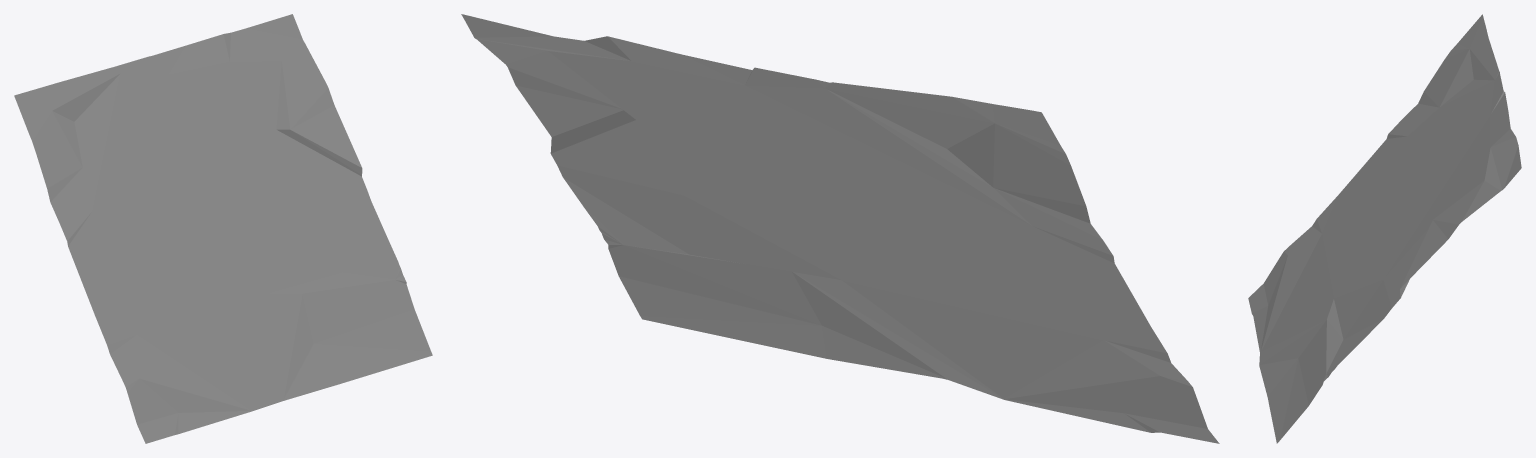
The picture shows the model from 3 angles, left to right: view 1: azimuth 30°, elevation 25°; view 2: azimuth 150°, elevation 25°; view 3: azimuth 270°, elevation 25°; orthographic projection. The views are drawn at different scales.
Bounding box in the file's own units: 1426 × 1154 × 1035.
1 material, 1 textured.
